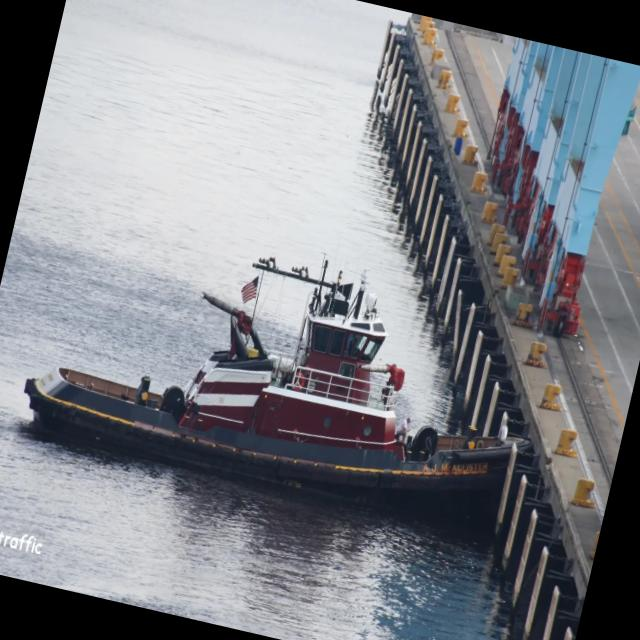Tug: (24, 260, 527, 501)
